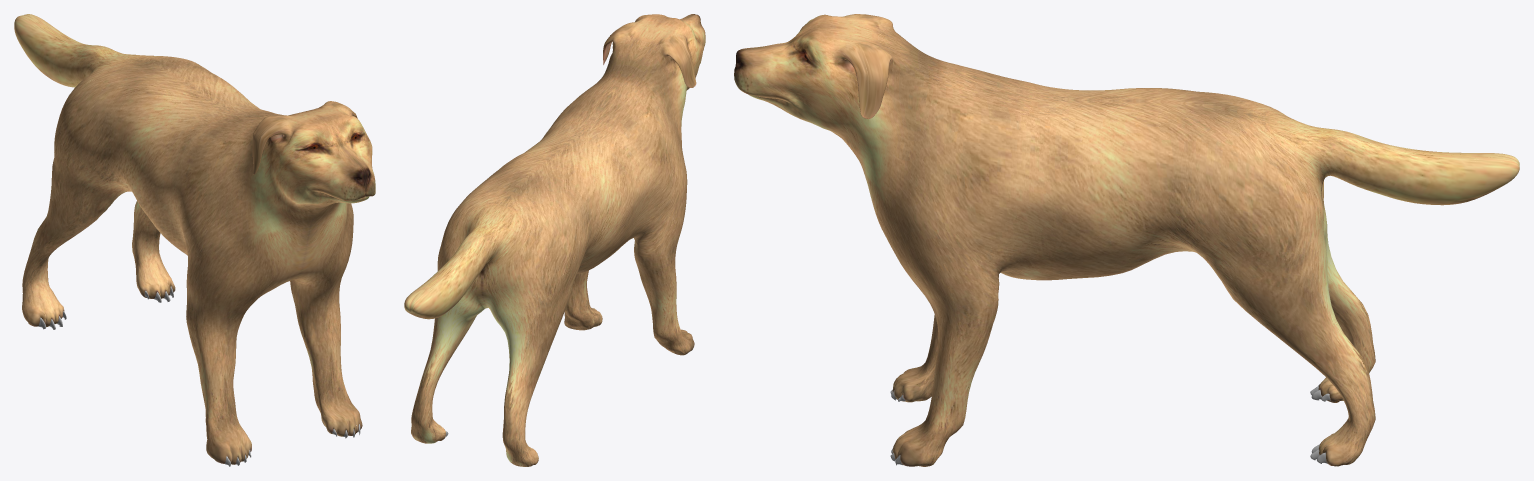
Rendered from dog.glb.
The picture shows the model from 3 angles, left to right: view 1: azimuth 30°, elevation 25°; view 2: azimuth 150°, elevation 25°; view 3: azimuth 270°, elevation 25°; orthographic projection. The views are drawn at different scales.
Parts seen in each view (by area): view 1: Default; view 2: Default; view 3: Default.
Boxes of the visible parts, left/top/right/bottom form: Default: left=14, top=14, right=375, bottom=466; Default: left=404, top=14, right=705, bottom=466; Default: left=734, top=14, right=1519, bottom=466.
Size of the model in its own units: 161 by 361 by 635.
9 materials, 3 textured.
